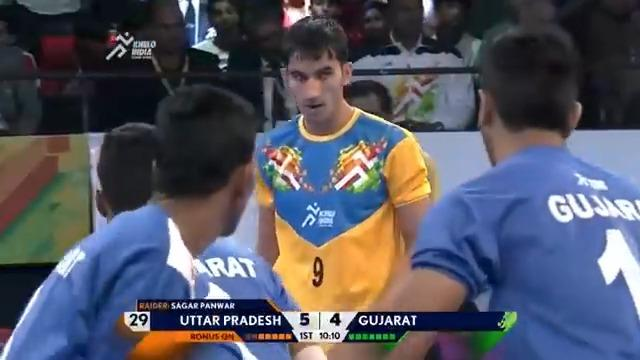Player: (372, 26, 639, 358), (2, 83, 299, 359)
Raider: (250, 14, 433, 356)
